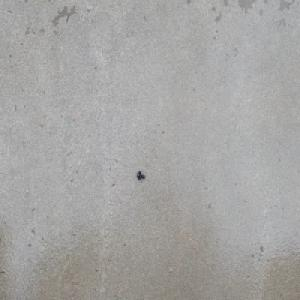BoltWasher: (136, 170, 145, 180)
